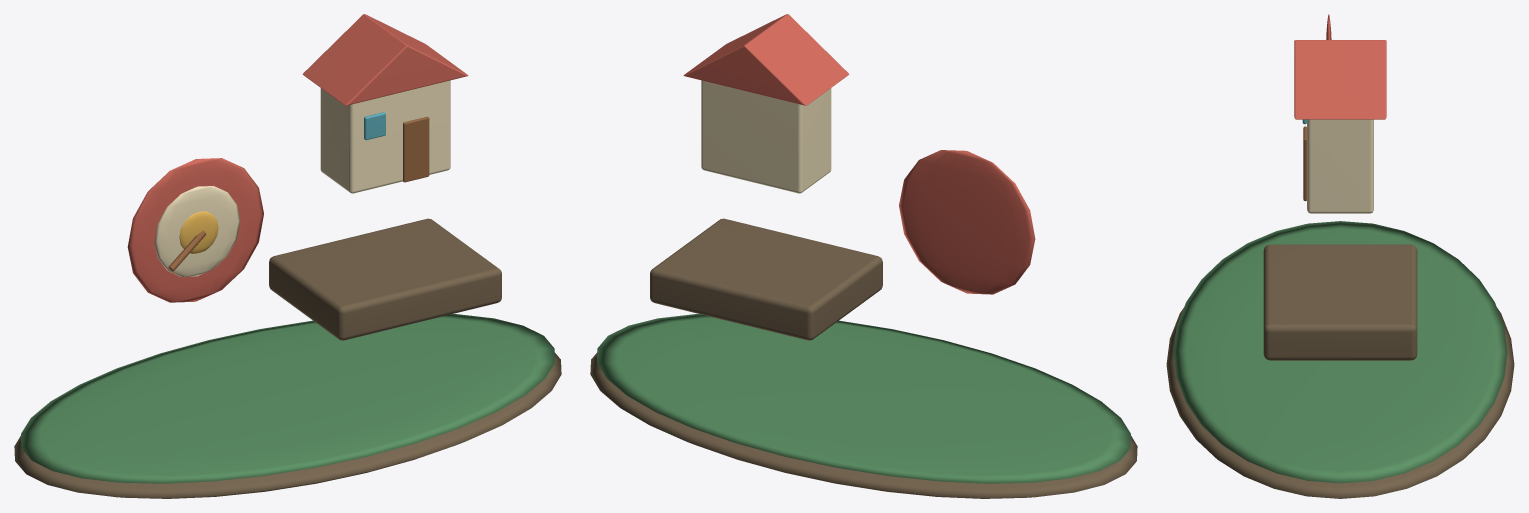
The model's file is complete-second-positioned-ground-local.glb.
3 renders of one model, left to right at view 1: azimuth 30°, elevation 25°; view 2: azimuth 150°, elevation 25°; view 3: azimuth 270°, elevation 25°, orthographic. The views are drawn at different scales.
Parts seen in each view (by area): view 1: complete-second-positioned-ground-local_surface_01, complete-second-positioned-ground-local_surface_00, complete-second-positioned-ground-local_surface_02, complete-second-positioned-ground-local_surface_03, complete-second-positioned-ground-local_surface_05, complete-second-positioned-ground-local_surface_04; view 2: complete-second-positioned-ground-local_surface_01, complete-second-positioned-ground-local_surface_00, complete-second-positioned-ground-local_surface_02, complete-second-positioned-ground-local_surface_03; view 3: complete-second-positioned-ground-local_surface_01, complete-second-positioned-ground-local_surface_00, complete-second-positioned-ground-local_surface_02, complete-second-positioned-ground-local_surface_03.
Boxes of the visible parts, x1=… form: complete-second-positioned-ground-local_surface_01: x1=21, y1=314, x2=554, y2=483; complete-second-positioned-ground-local_surface_00: x1=14, y1=218, x2=561, y2=498; complete-second-positioned-ground-local_surface_02: x1=127, y1=14, x2=468, y2=302; complete-second-positioned-ground-local_surface_03: x1=154, y1=80, x2=450, y2=276; complete-second-positioned-ground-local_surface_05: x1=168, y1=116, x2=429, y2=271; complete-second-positioned-ground-local_surface_04: x1=179, y1=211, x2=218, y2=253; complete-second-positioned-ground-local_surface_01: x1=597, y1=314, x2=1130, y2=483; complete-second-positioned-ground-local_surface_00: x1=590, y1=218, x2=1137, y2=498; complete-second-positioned-ground-local_surface_02: x1=683, y1=14, x2=1035, y2=294; complete-second-positioned-ground-local_surface_03: x1=701, y1=80, x2=831, y2=193; complete-second-positioned-ground-local_surface_01: x1=1173, y1=221, x2=1507, y2=483; complete-second-positioned-ground-local_surface_00: x1=1166, y1=244, x2=1514, y2=498; complete-second-positioned-ground-local_surface_02: x1=1294, y1=14, x2=1386, y2=119; complete-second-positioned-ground-local_surface_03: x1=1307, y1=119, x2=1373, y2=213.
Bounding box in the file's own units: 4.56 × 3.1 × 2.5.
